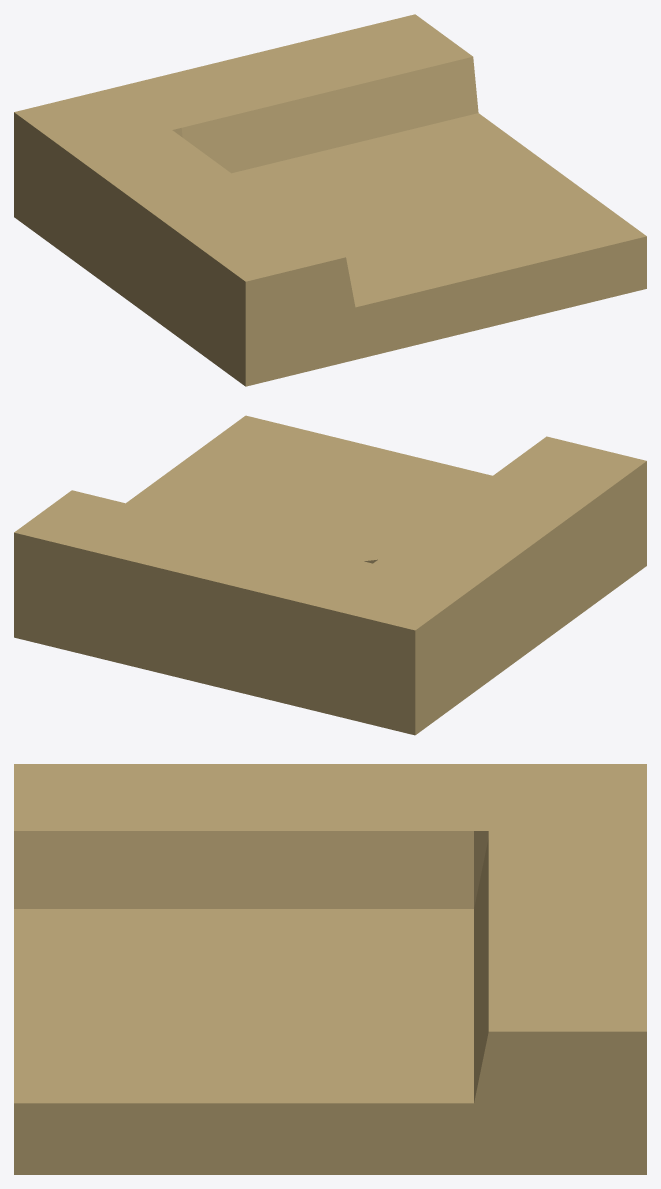
File: Bigpit1.fbx
3 views of the same model, one above another, from view 1: azimuth 30°, elevation 25°; view 2: azimuth 150°, elevation 25°; view 3: azimuth 270°, elevation 25° (orthographic). The views are drawn at different scales.
Parts seen in each view (by area): view 1: Cube.020; view 2: Cube.020; view 3: Cube.020.
Part boxes in pixels (<box>): Cube.020: <box>14,14,646,386</box>; Cube.020: <box>14,415,646,735</box>; Cube.020: <box>14,764,646,1174</box>.
Bounding box in the file's own units: 800 × 200 × 800.
